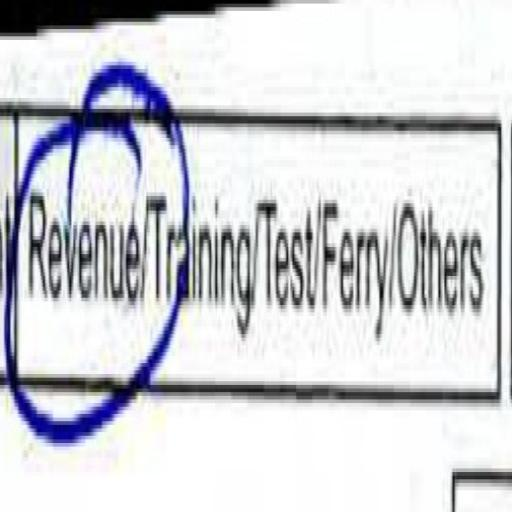check: (15, 71, 150, 450)
